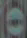No overtake: (1, 3, 26, 36)
